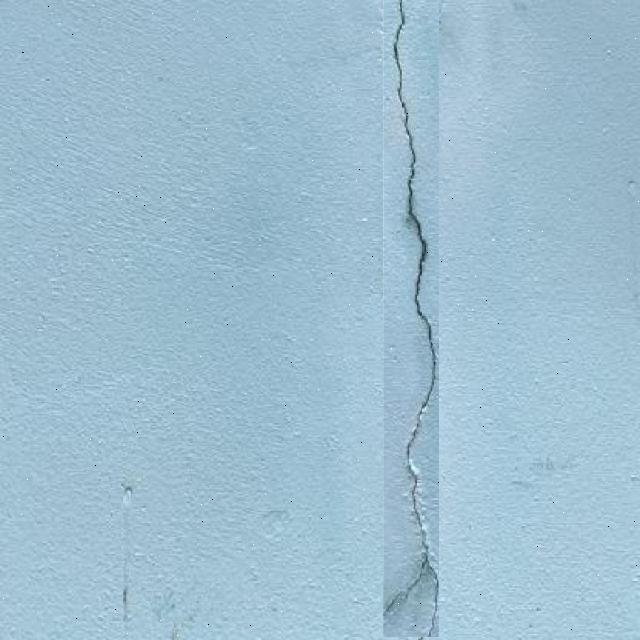crack: (381, 0, 441, 639)
